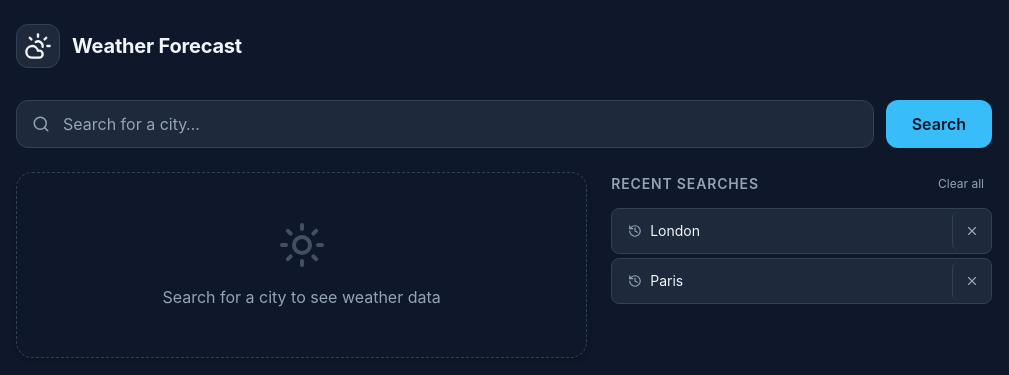
Test: App › Undo flow › shows undo toast after clearing all history
This screenshot has width=1009, height=375.
Click the button "Clear all" at {"x": 961, "y": 184}, box [930, 172, 992, 196]
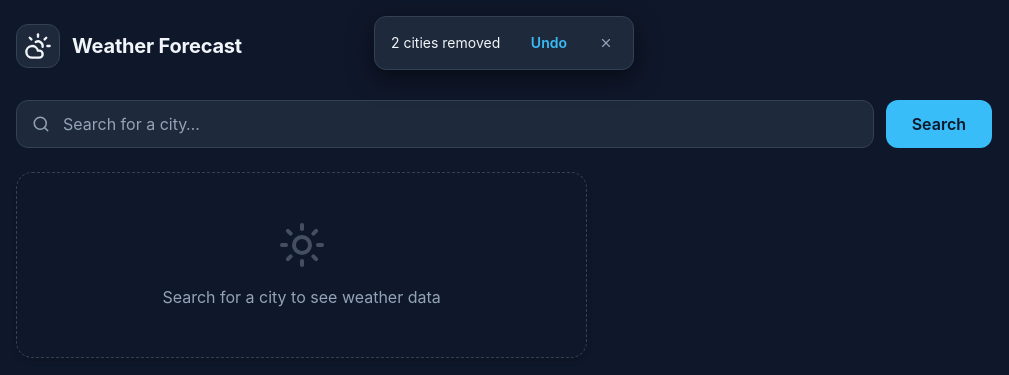
Check: the message "2 cities removed Undo" is shown, box [374, 16, 634, 70]
Check: the text "2 cities removed" is shown, box [391, 33, 507, 53]
